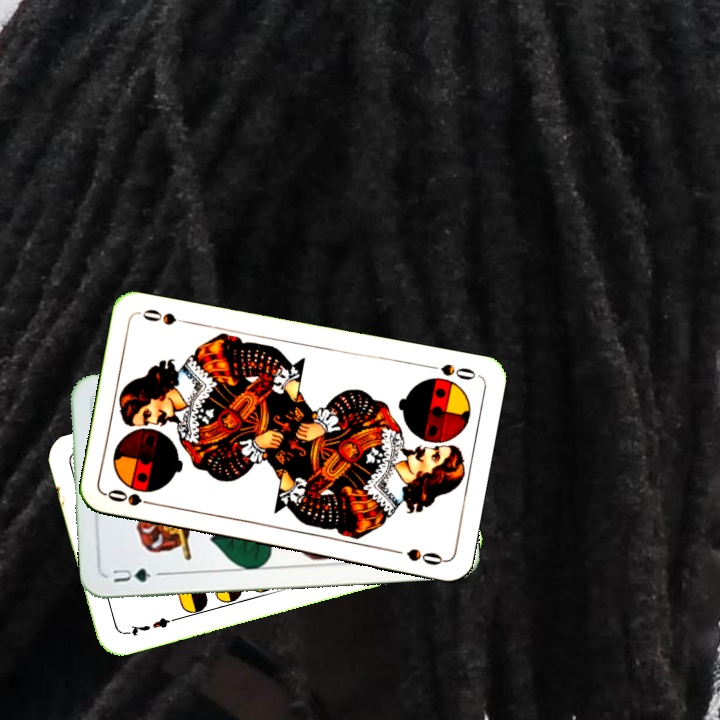E7: (120, 613, 179, 639)
GU: (108, 564, 154, 585)
SO: (103, 485, 162, 509), (422, 360, 479, 383)
